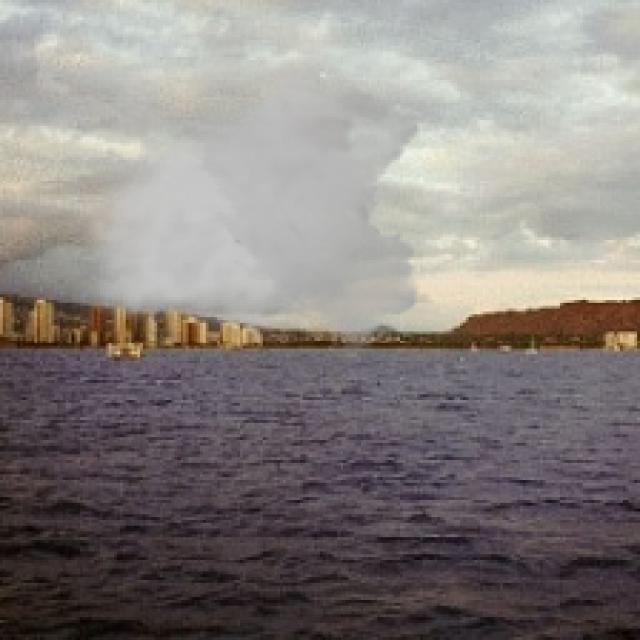Smoke: (71, 6, 428, 360)
